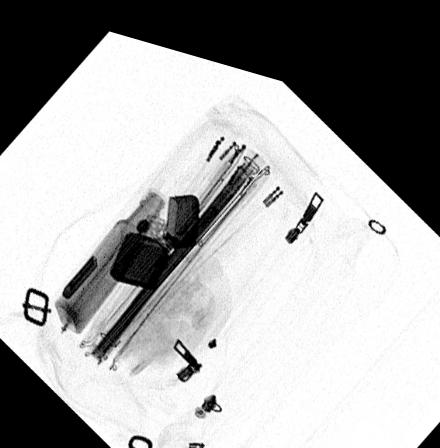Lighter: (109, 181, 200, 281)
